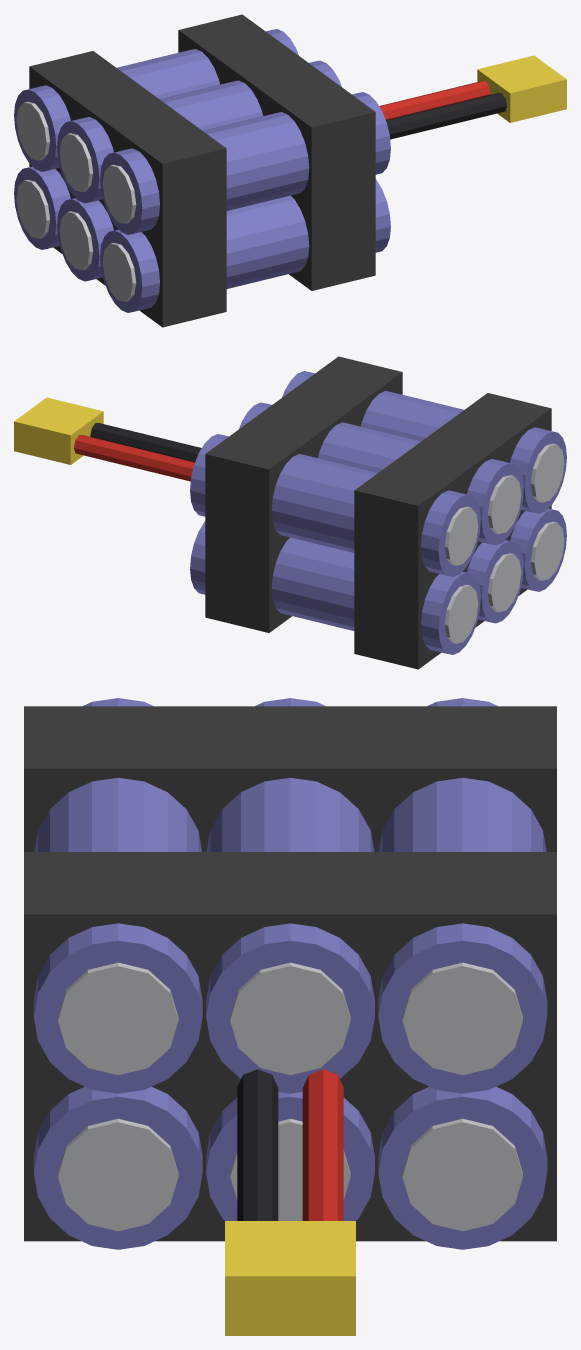
Rendered from Bat_P45B_1P.glb.
The picture shows the model from 3 angles, top to bottom: view 1: azimuth 30°, elevation 25°; view 2: azimuth 150°, elevation 25°; view 3: azimuth 270°, elevation 25°; orthographic projection. The views are drawn at different scales.
Visible parts, largest first — view 1: Tape.002, Tape.003, Cell10.001, Cell00.001, Cell11.001, Cell12.001, XT60.003, LeadB.003, Cell02.001, Cell01.001, LeadR.003, Cap11.001 (+5 smaller); view 2: Tape.002, Tape.003, Cell12.001, Cell02.001, Cell11.001, Cell10.001, XT60.003, LeadR.003, Cell00.001, Cell01.001, LeadB.003, Cap11.001 (+5 smaller); view 3: Tape.003, Tape.002, Cell10.001, Cell12.001, Cell11.001, XT60.003, Cell00.001, Cell02.001, Cap00.001, Cap02.001, Cap11.001, Cap10.001 (+5 smaller).
Boxes of the visible parts, x1,y1,x2,y2 form: Tape.002: (29, 51, 226, 327); Tape.003: (178, 14, 375, 290); Cell10.001: (100, 92, 390, 234); Cell00.001: (100, 179, 390, 312); Cell11.001: (57, 60, 341, 203); Cell12.001: (14, 29, 298, 171); XT60.003: (477, 55, 566, 122); LeadB.003: (386, 93, 506, 139); Cell02.001: (14, 166, 70, 249); Cell01.001: (57, 198, 113, 281); LeadR.003: (379, 81, 490, 120); Cap11.001: (59, 133, 93, 192); Tape.002: (354, 393, 551, 669); Tape.003: (205, 356, 402, 632); Cell12.001: (190, 434, 480, 576); Cell02.001: (190, 521, 480, 654); Cell11.001: (239, 402, 523, 545); Cell10.001: (282, 371, 566, 513); XT60.003: (14, 397, 103, 464); LeadR.003: (74, 435, 194, 481); Cell00.001: (510, 508, 566, 591); Cell01.001: (467, 540, 523, 623); LeadB.003: (90, 423, 201, 462); Cap11.001: (487, 475, 521, 534); Tape.003: (24, 852, 556, 1241); Tape.002: (24, 706, 556, 851); Cell10.001: (33, 698, 202, 1093); Cell12.001: (378, 698, 547, 1093); Cell11.001: (206, 698, 374, 1093); XT60.003: (225, 1221, 355, 1335); Cell00.001: (33, 1086, 202, 1249); Cell02.001: (378, 1086, 547, 1249); Cap00.001: (58, 1118, 178, 1231); Cap02.001: (402, 1118, 522, 1231); Cap11.001: (230, 962, 350, 1075); Cap10.001: (58, 962, 178, 1075).
Bounding box in the file's own units: 0.134 × 0.044 × 0.065.
